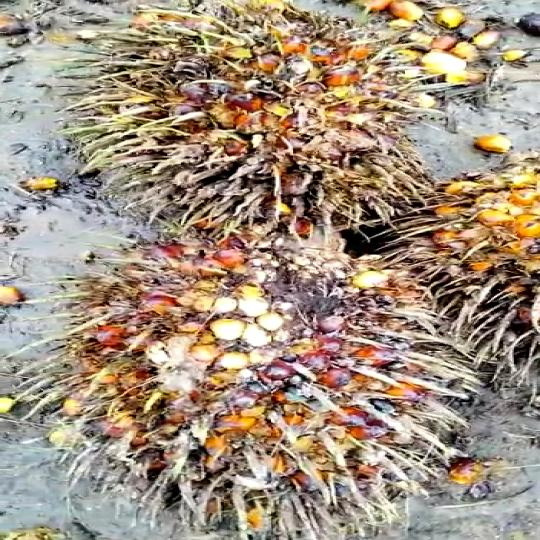terlalu masak: (55, 223, 469, 540), (55, 0, 456, 237)
